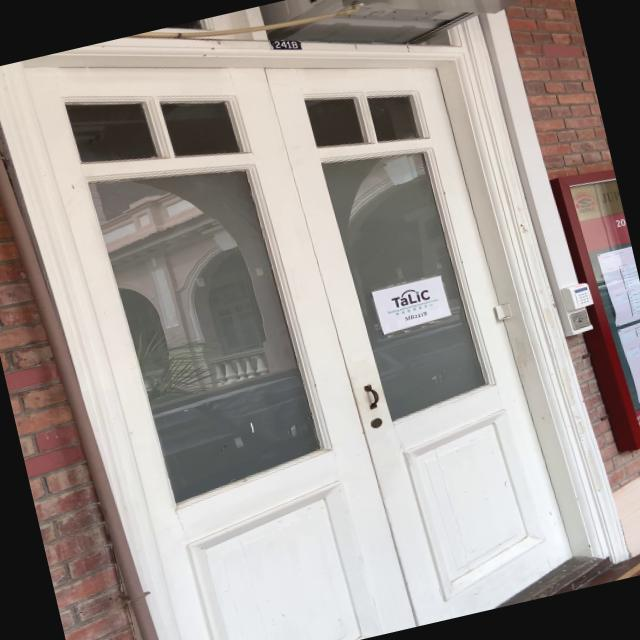room241b: (265, 30, 304, 58)
